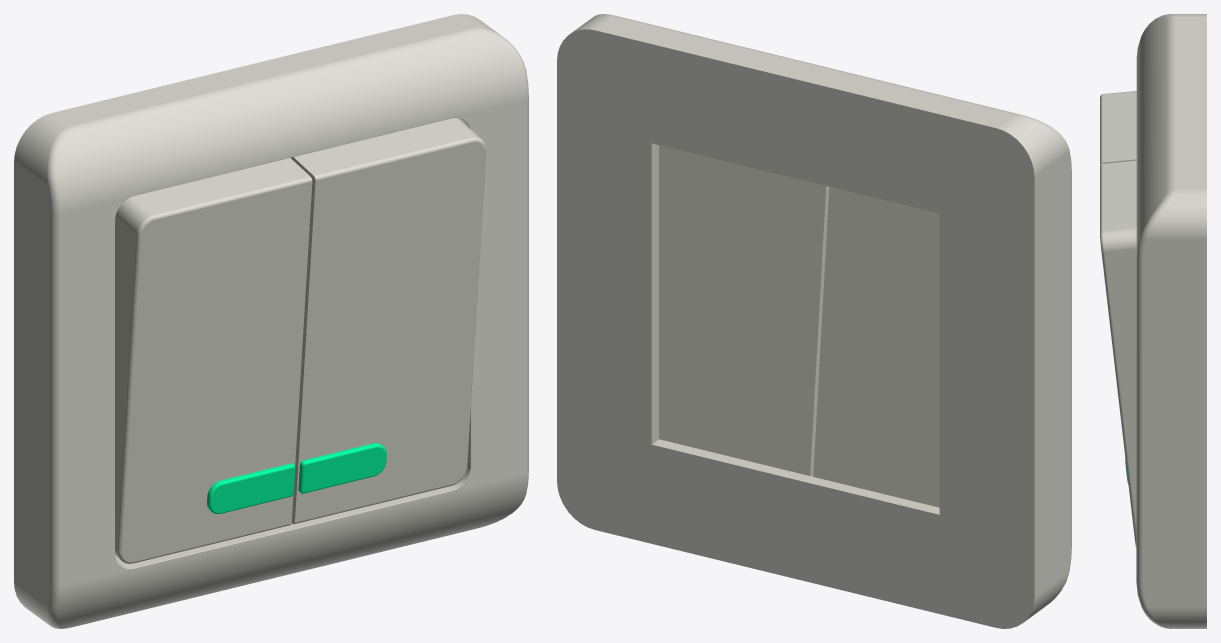
The model's file is SWITCH_DOUBLE.FBX.
The picture shows the model from 3 angles, left to right: view 1: azimuth 30°, elevation 25°; view 2: azimuth 150°, elevation 25°; view 3: azimuth 270°, elevation 25°; orthographic projection. The views are drawn at different scales.
Parts seen in each view (by area): view 1: SWITCH_DOUBLE_FRAME, SWITCH_DOUBLE_LEFT, SWITCH_DOUBLE_RIGHT, POWER_SWITCH_ILLUMINATION_R, POWER_SWITCH_ILLUMINATION_L; view 2: SWITCH_DOUBLE_FRAME, SWITCH_DOUBLE_RIGHT, SWITCH_DOUBLE_LEFT; view 3: SWITCH_DOUBLE_FRAME, SWITCH_DOUBLE_RIGHT, SWITCH_DOUBLE_LEFT.
Boxes of the visible parts, x1,y1,x2,y2 form: SWITCH_DOUBLE_FRAME: [14, 14, 528, 628]; SWITCH_DOUBLE_LEFT: [115, 158, 312, 563]; SWITCH_DOUBLE_RIGHT: [290, 118, 486, 524]; POWER_SWITCH_ILLUMINATION_R: [298, 443, 386, 493]; POWER_SWITCH_ILLUMINATION_L: [207, 463, 295, 513]; SWITCH_DOUBLE_FRAME: [557, 14, 1071, 628]; SWITCH_DOUBLE_RIGHT: [659, 145, 829, 476]; SWITCH_DOUBLE_LEFT: [813, 186, 939, 507]; SWITCH_DOUBLE_FRAME: [1136, 14, 1206, 628]; SWITCH_DOUBLE_RIGHT: [1100, 160, 1136, 547]; SWITCH_DOUBLE_LEFT: [1100, 91, 1136, 165].
Bounding box in the file's own units: 7.52 × 7.52 × 1.67.
